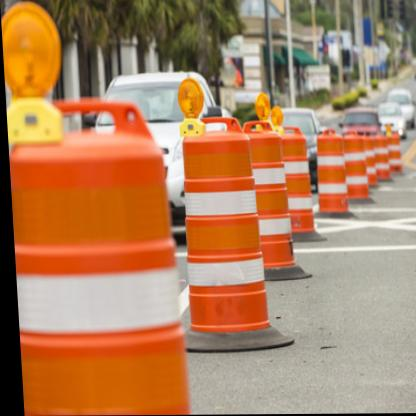obstacle: (9, 130, 188, 416), (168, 114, 274, 345), (248, 121, 295, 275)
